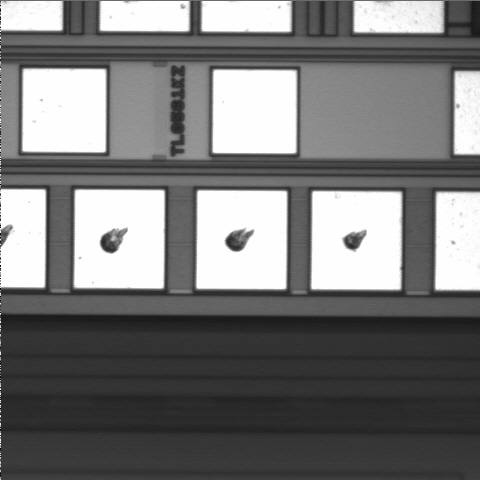pad: (74, 190, 165, 289), (196, 190, 287, 289), (311, 191, 402, 290), (22, 69, 106, 152), (213, 70, 297, 153)
